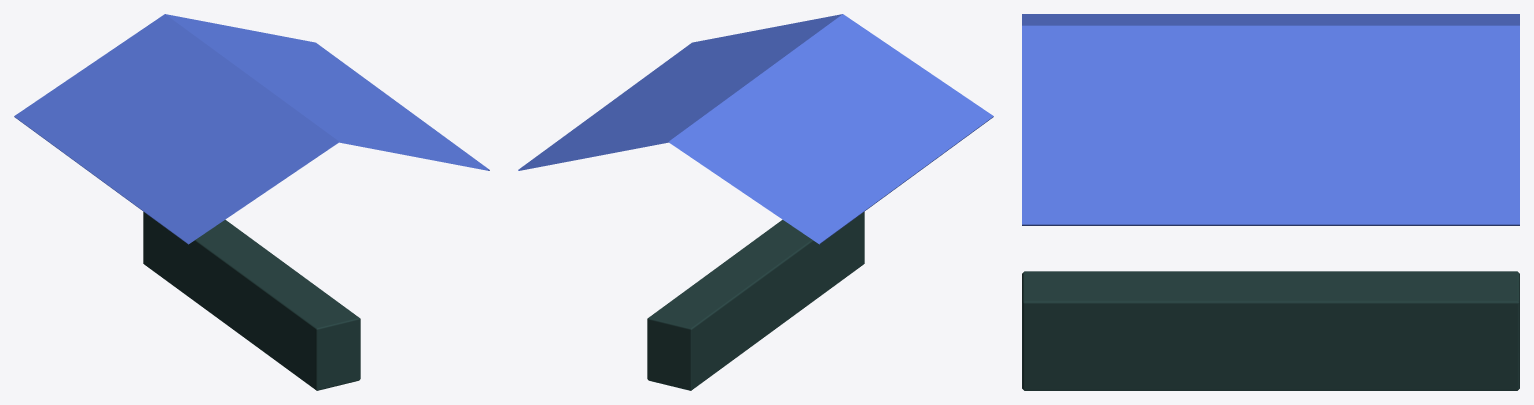
File: SM_Straight_1m.fbx
3 renders of one model, left to right at view 1: azimuth 30°, elevation 25°; view 2: azimuth 150°, elevation 25°; view 3: azimuth 270°, elevation 25°, orthographic. The views are drawn at different scales.
Parts seen in each view (by area): view 1: SM_Straight_1m_LOD0; view 2: SM_Straight_1m_LOD0; view 3: SM_Straight_1m_LOD0.
Boxes of the visible parts, x1,y1,x2,y2 form: SM_Straight_1m_LOD0: (14, 14, 489, 390); SM_Straight_1m_LOD0: (518, 14, 993, 390); SM_Straight_1m_LOD0: (1022, 14, 1519, 390).
Size of the model in its own units: 100 by 77.69 by 100.
